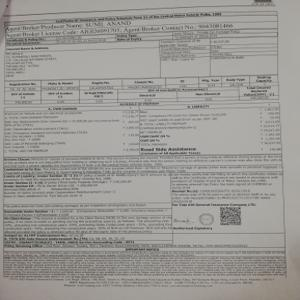table: (4, 9, 280, 101), (4, 103, 281, 154)
text: (5, 157, 168, 233), (3, 251, 284, 291)
